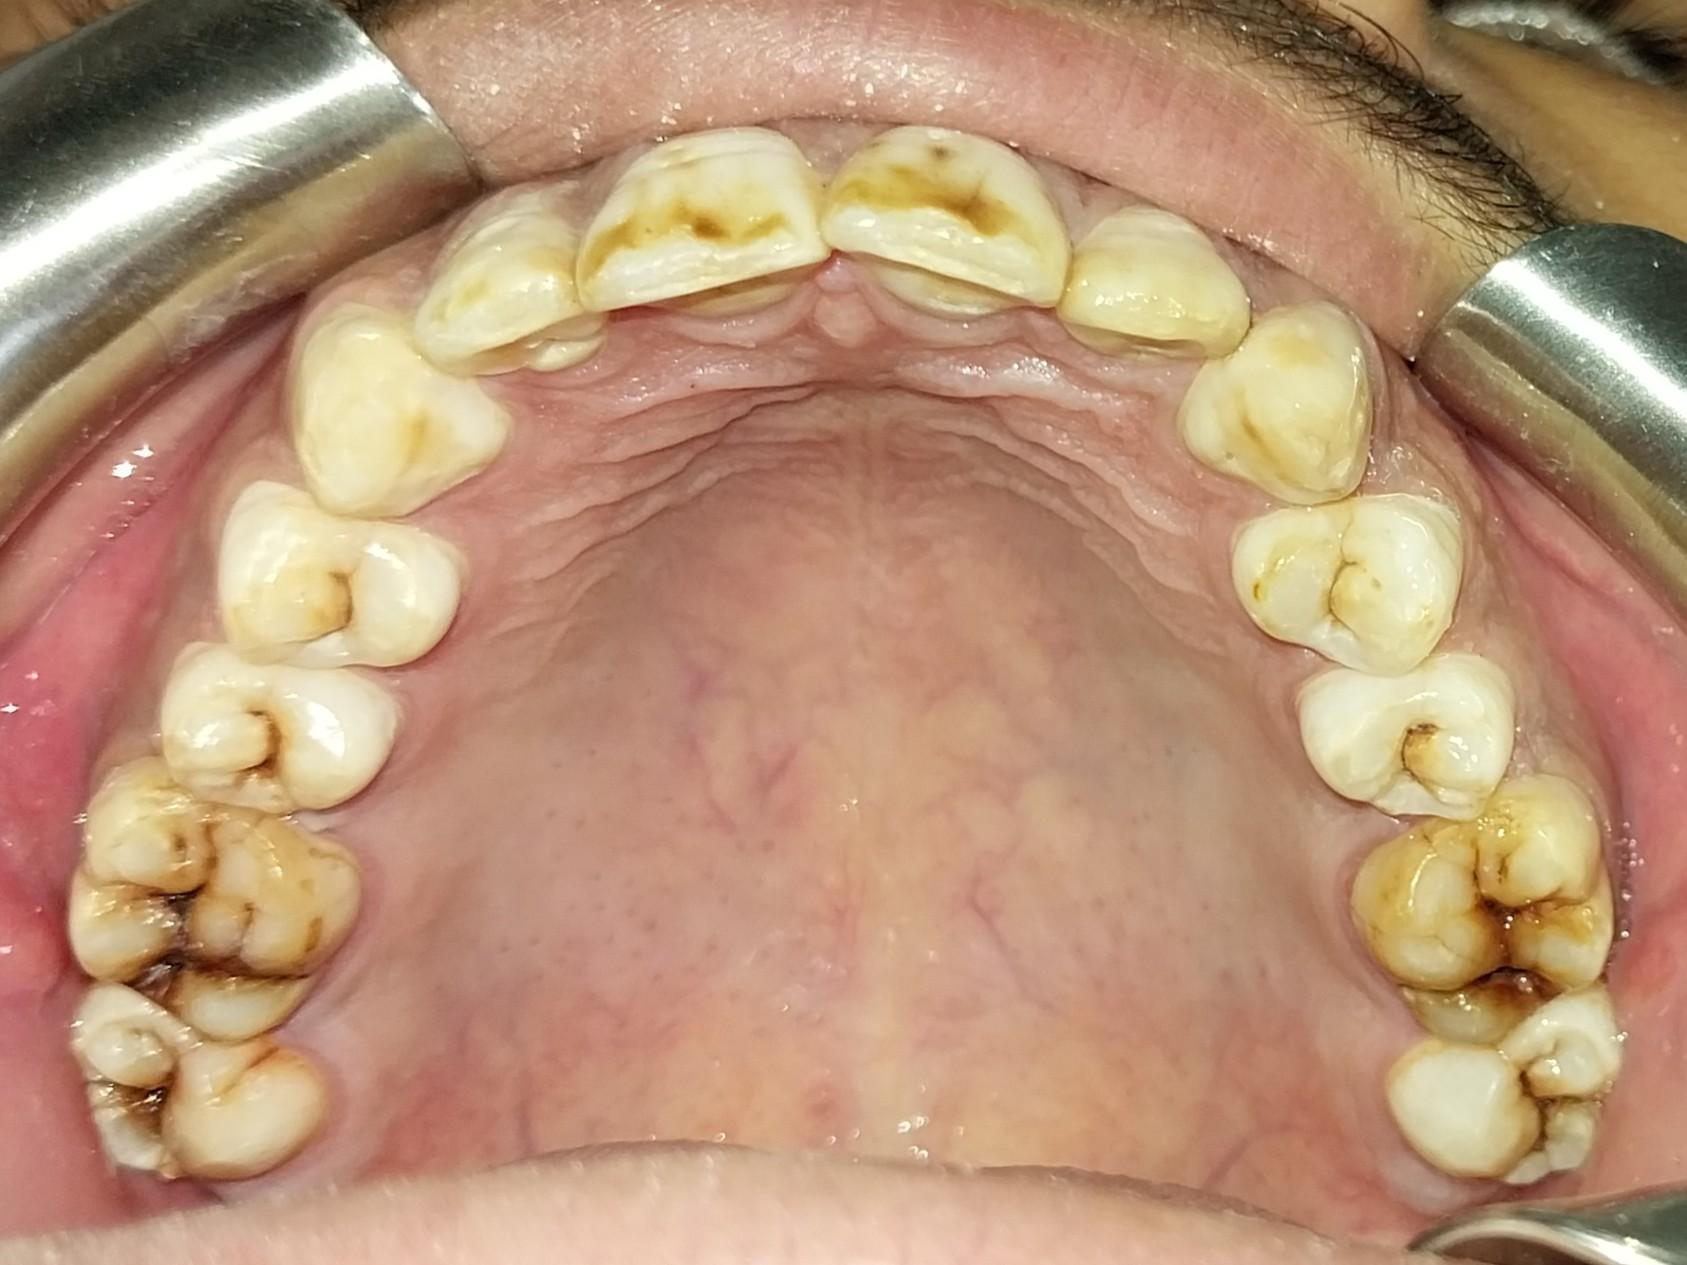D: (68, 775, 356, 1033), (1355, 818, 1611, 1048), (62, 990, 314, 1180), (224, 486, 462, 675), (1386, 1003, 1621, 1190), (160, 657, 385, 815), (1302, 662, 1511, 826)
